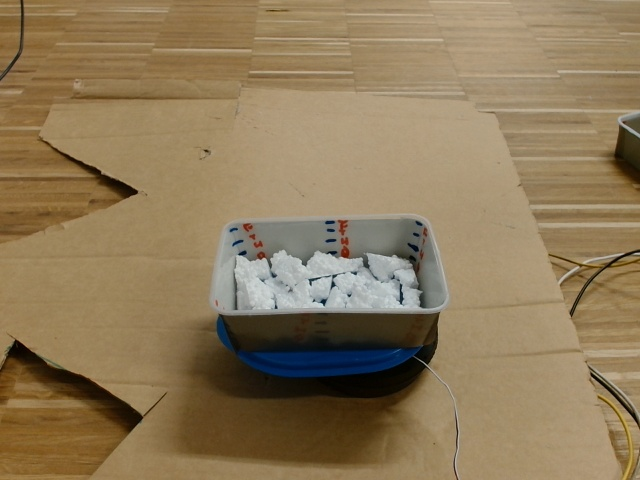Small_quarter: (215, 216, 447, 322)
